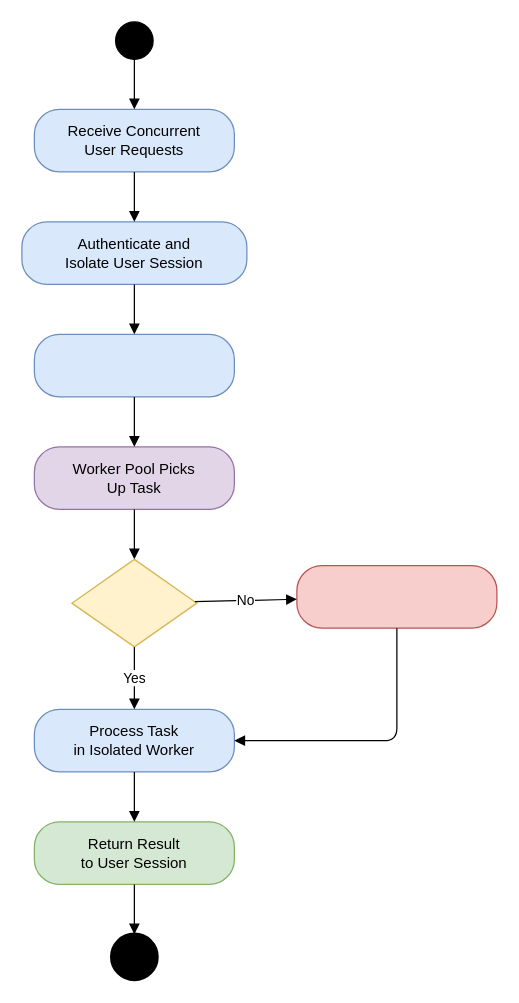
Image size: 519x1003. Some labels were removed from this diagram. The box of each missing label's shape, as (x1, y1, x2, y2) in pixels:
Route Task to Redis Queue: (33, 333, 234, 397)
Scale Workers Horizontally: (296, 564, 497, 628)
Worker Available?: (71, 558, 197, 647)
